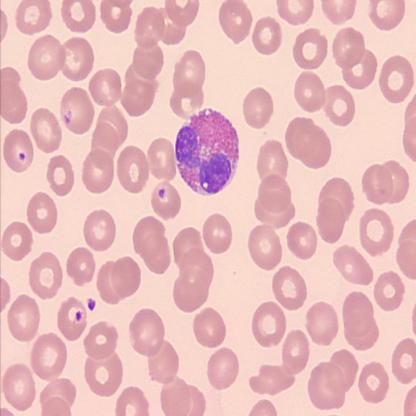Eosinophil: (176, 108, 240, 194)
